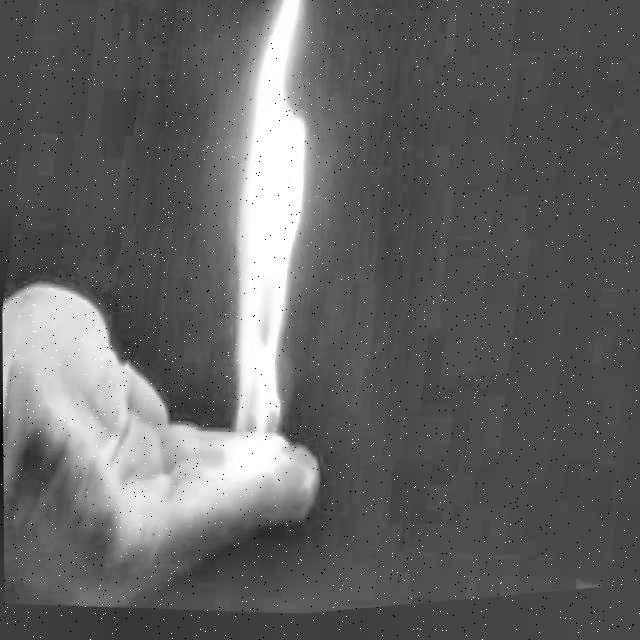Smoke: (185, 0, 355, 502)
